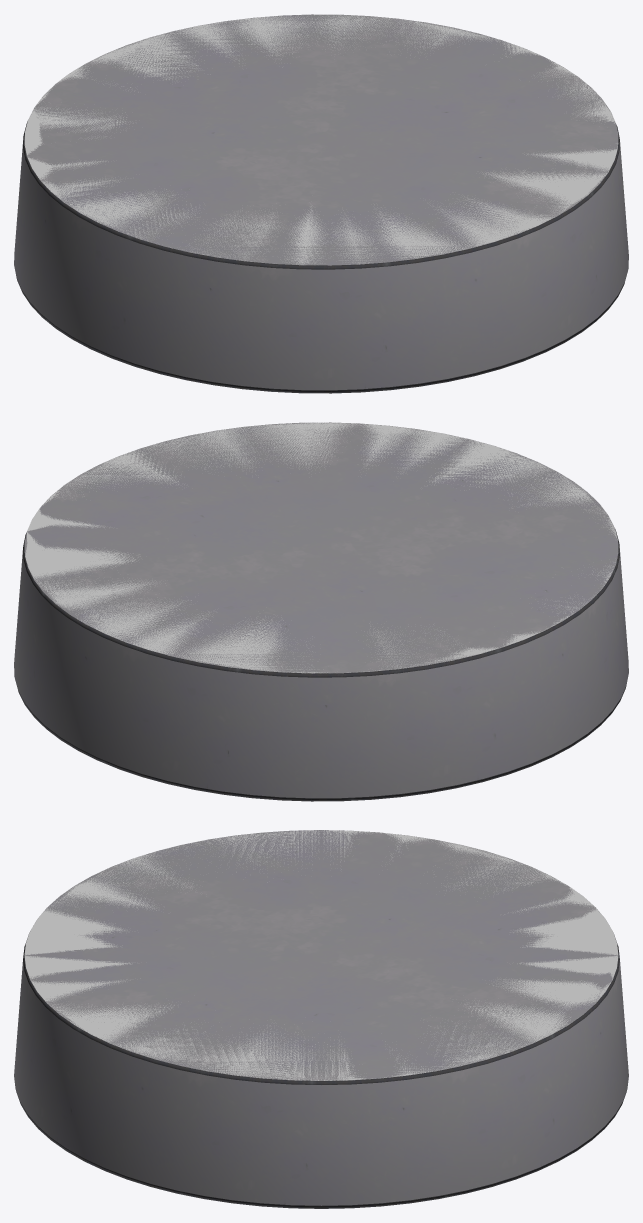
The model's file is SM_Buliding06a.fbx.
3 views of the same model, one above another, from view 1: azimuth 30°, elevation 25°; view 2: azimuth 150°, elevation 25°; view 3: azimuth 270°, elevation 25° (orthographic).
Parts seen in each view (by area): view 1: SM_Buliding06a, SM_Buliding06a_ConvexHulls; view 2: SM_Buliding06a, SM_Buliding06a_ConvexHulls; view 3: SM_Buliding06a, SM_Buliding06a_ConvexHulls.
Part boxes in pixels (left/top/right/bottom): SM_Buliding06a: left=14, top=14, right=628, bottom=393; SM_Buliding06a_ConvexHulls: left=24, top=14, right=618, bottom=265; SM_Buliding06a: left=14, top=422, right=628, bottom=801; SM_Buliding06a_ConvexHulls: left=24, top=422, right=617, bottom=673; SM_Buliding06a: left=14, top=830, right=628, bottom=1208; SM_Buliding06a_ConvexHulls: left=24, top=830, right=618, bottom=1080.
Bounding box in the file's own units: 900 × 900 × 200.
Materials: 3 (2 with a texture image).
